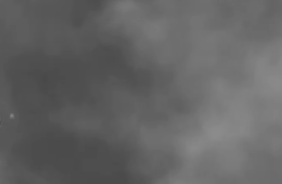Target: (11, 114, 14, 117)
